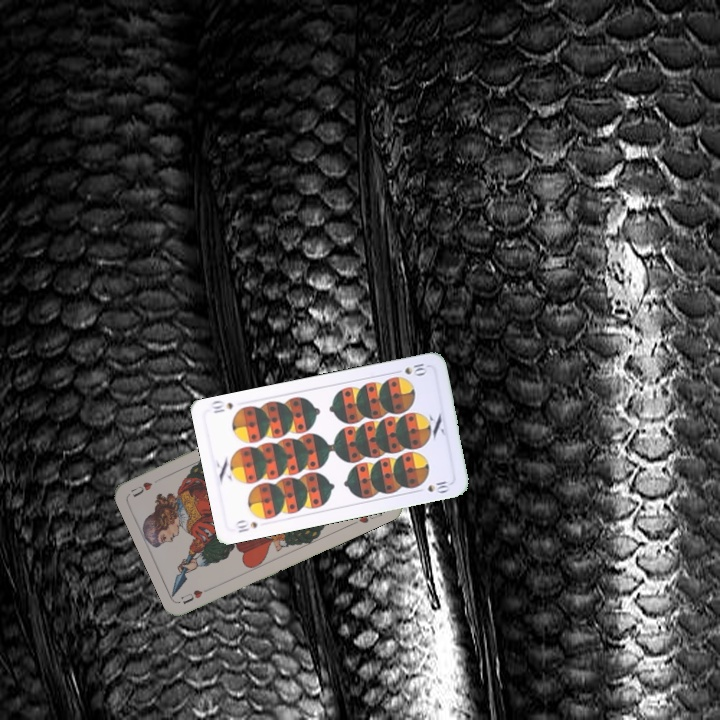HU: (177, 583, 216, 607)
S10: (390, 359, 430, 378), (231, 516, 260, 535)
